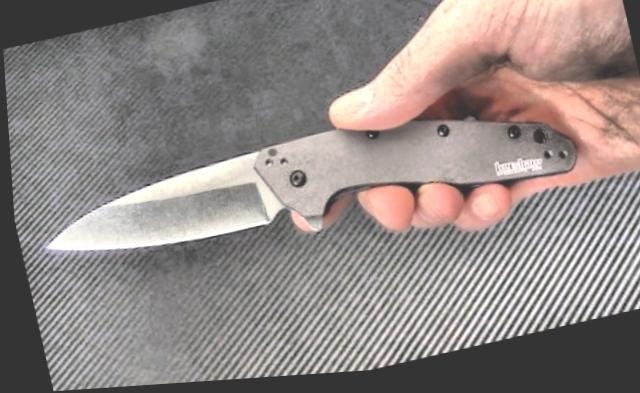knife: (14, 70, 598, 331)
